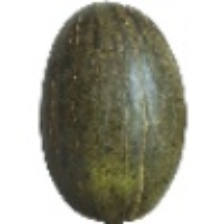honeydew: (23, 30, 211, 198)
